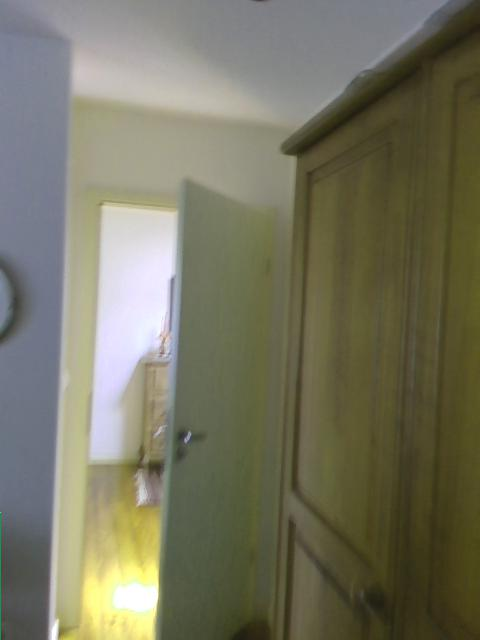semi_door: (73, 174, 278, 639)
